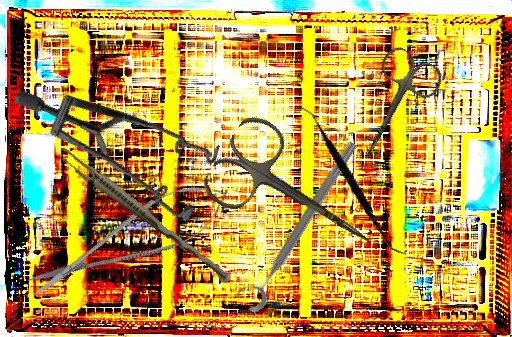Fixation Ring: (231, 132, 363, 316)
Iris Scissors: (197, 108, 396, 285), (337, 42, 448, 174)
Micro Scissor: (16, 166, 242, 314)
Spatula Surgical: (260, 104, 445, 256)
Speculum: (10, 17, 245, 267)
Tissue Forceps: (53, 145, 237, 285)
